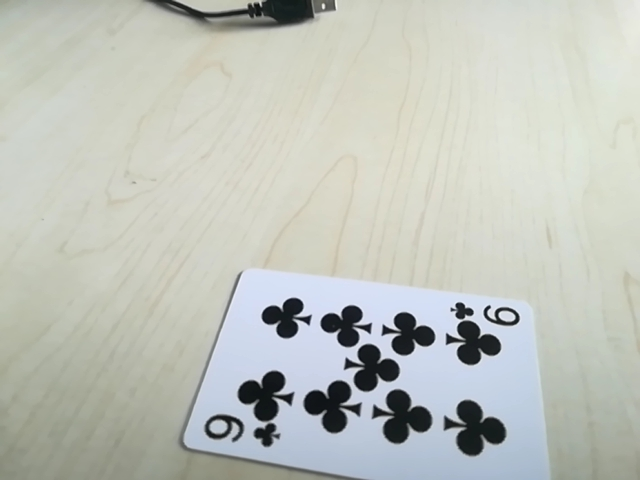mh 9: (198, 420, 282, 452), (449, 299, 525, 330)
